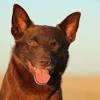dog: (7, 1, 83, 91)
